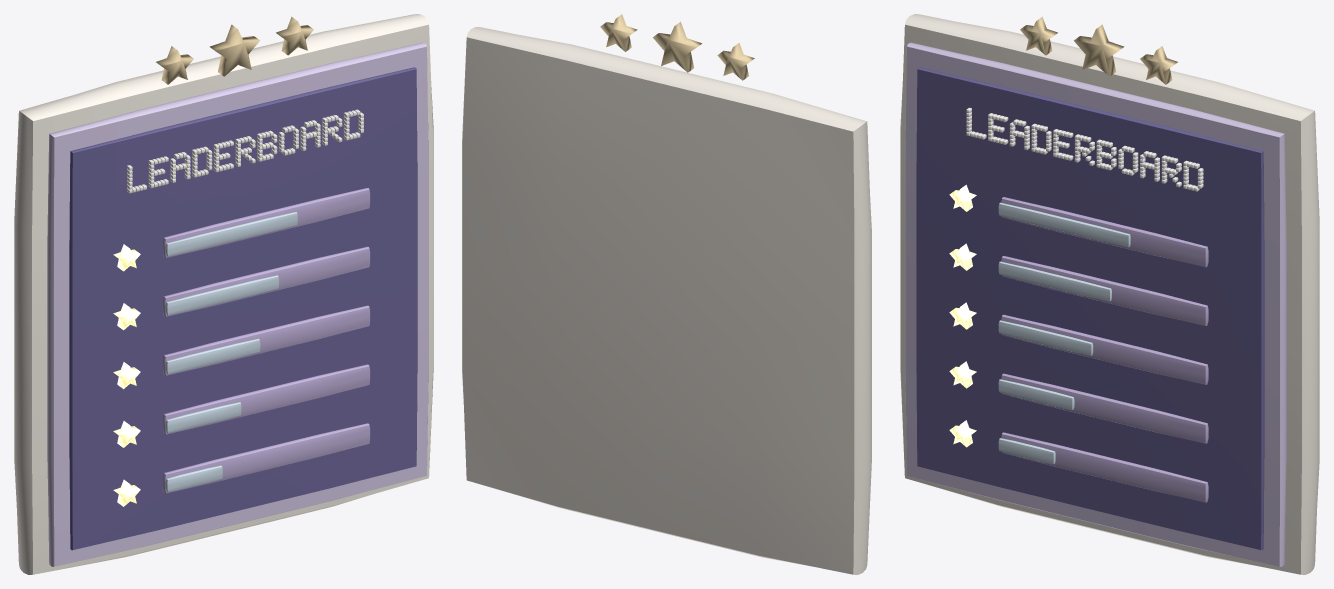
File: leaderboard.glb
3 views of the same model, side by side, from view 1: azimuth 30°, elevation 25°; view 2: azimuth 150°, elevation 25°; view 3: azimuth 330°, elevation 25° (orthographic). The views are drawn at different scales.
Visible parts, largest first — view 1: blue display, outer frame, lavender bezel, score track (×5), score fill (×5), LEADERBOARD editable mesh lettering, crown star (×3); view 2: outer frame, crown star (×3); view 3: blue display, outer frame, lavender bezel, score track (×5), score fill (×5), LEADERBOARD editable mesh lettering, crown star (×3).
Boxes of the visible parts, bbox=[...] form: blue display: bbox=[69, 67, 417, 550]; outer frame: bbox=[14, 14, 433, 574]; lavender bezel: bbox=[47, 42, 428, 566]; score track (×5): bbox=[163, 188, 370, 493]; score fill (×5): bbox=[165, 212, 297, 491]; LEADERBOARD editable mesh lettering: bbox=[127, 109, 363, 193]; crown star (×3): bbox=[156, 16, 313, 84]; outer frame: bbox=[462, 27, 871, 574]; crown star (×3): bbox=[600, 14, 754, 80]; blue display: bbox=[916, 67, 1264, 550]; outer frame: bbox=[900, 14, 1319, 574]; lavender bezel: bbox=[905, 42, 1286, 566]; score track (×5): bbox=[1001, 197, 1208, 502]; score fill (×5): bbox=[998, 202, 1130, 464]; LEADERBOARD editable mesh lettering: bbox=[966, 107, 1203, 191]; crown star (×3): bbox=[1020, 16, 1177, 84].
Size of the model in its own units: 2.2 by 2.61 by 0.37.
